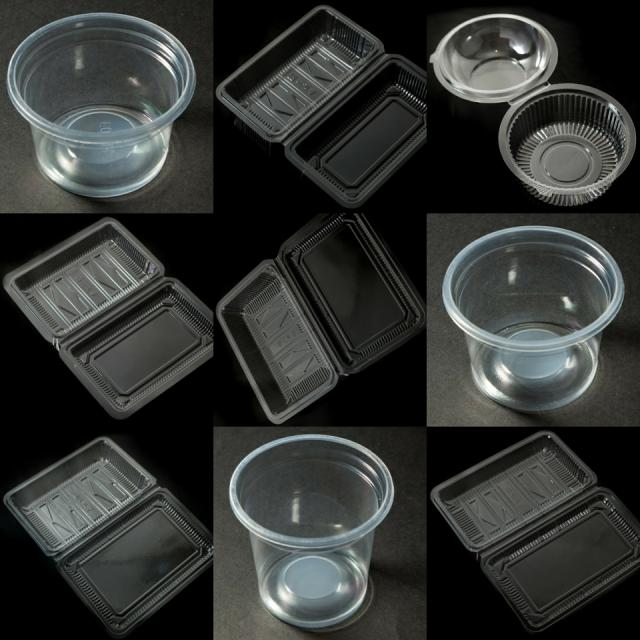Single-Use-Plastic: (218, 214, 425, 423), (216, 6, 426, 208), (431, 431, 640, 632), (4, 218, 212, 418), (5, 438, 212, 638), (430, 14, 636, 206), (8, 12, 195, 198), (442, 226, 624, 412), (230, 435, 394, 628)
